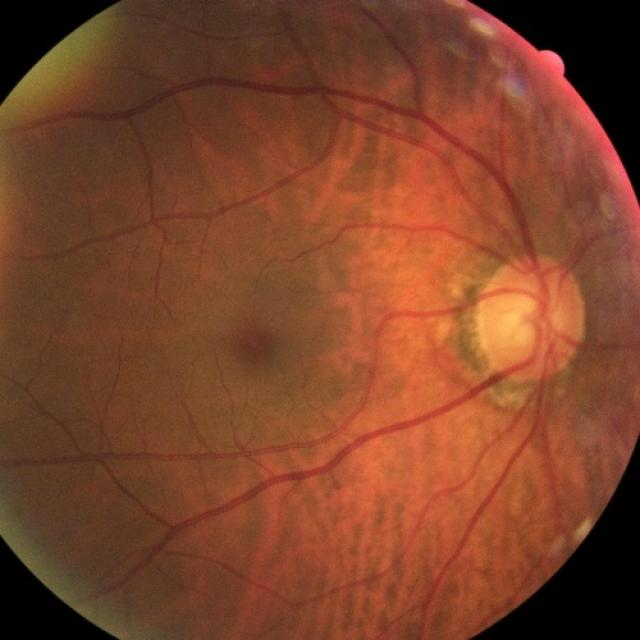OC: (499, 295, 544, 344)
OD: (478, 258, 588, 383)
